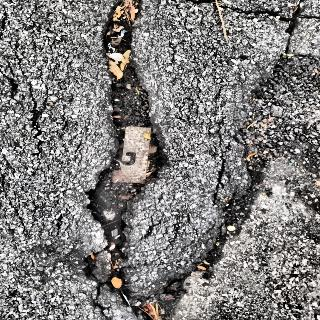crack: (91, 1, 186, 312), (230, 4, 310, 56)
